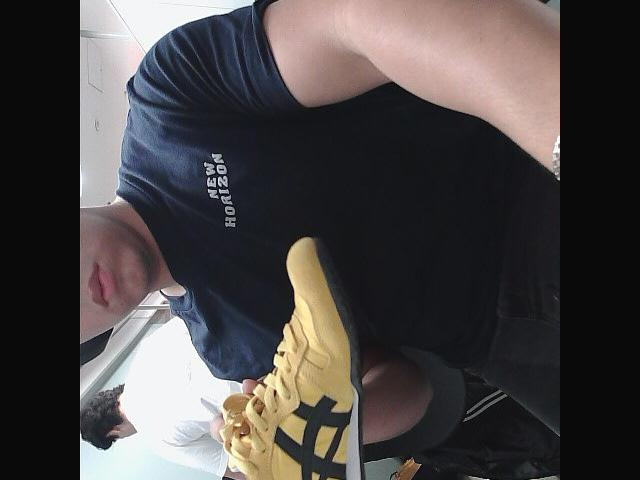Shoes: (219, 234, 365, 480)
